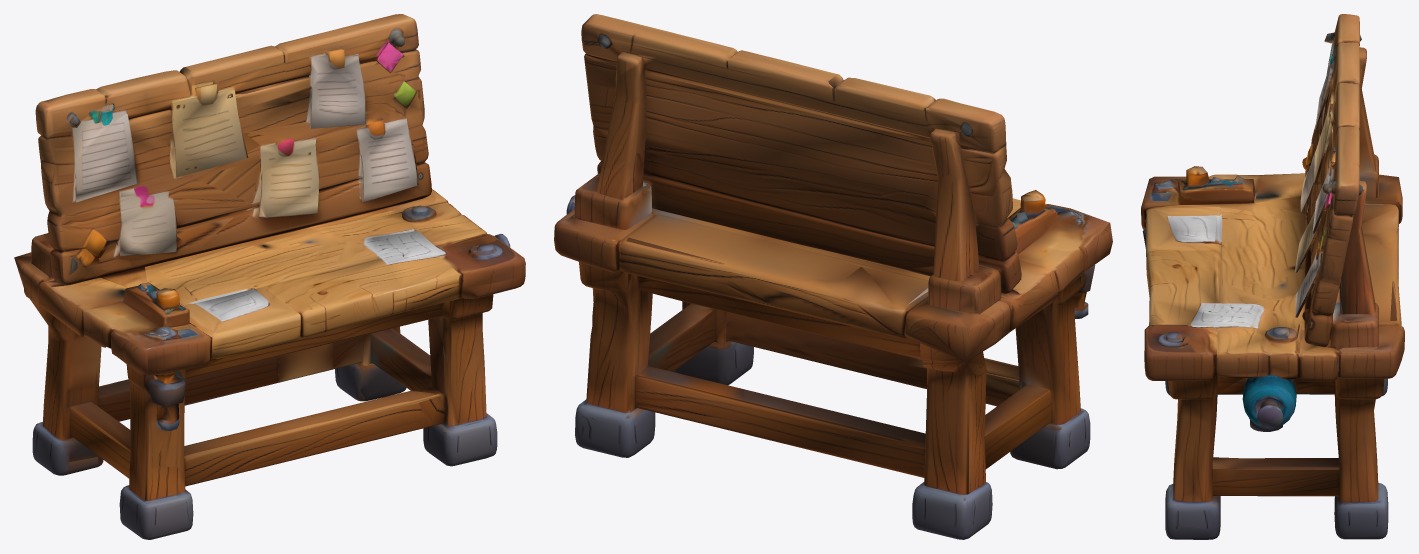
Rendered from 工作台.fbx.
3 views of the same model, side by side, from view 1: azimuth 30°, elevation 25°; view 2: azimuth 150°, elevation 25°; view 3: azimuth 270°, elevation 25° (orthographic). The views are drawn at different scales.
Parts seen in each view (by area): view 1: texture_pbr_v128; view 2: texture_pbr_v128; view 3: texture_pbr_v128.
Boxes of the visible parts, x1,y1,x2,y2 form: texture_pbr_v128: (14, 14, 525, 539); texture_pbr_v128: (554, 14, 1112, 539); texture_pbr_v128: (1141, 14, 1404, 539).
Bounding box in the file's own units: 92.34 × 75.9 × 50.59.
1 material, 1 textured.
